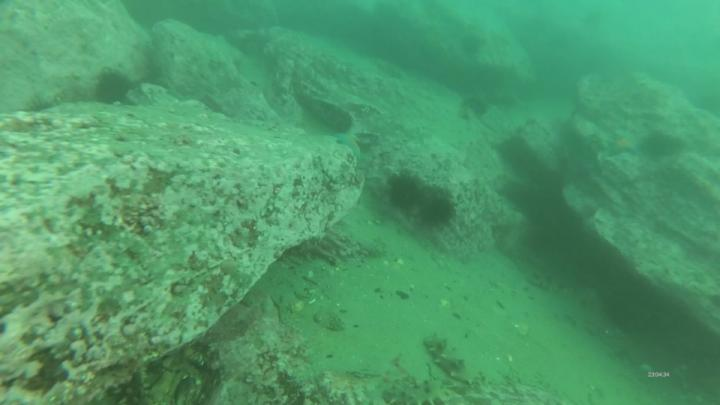echinus: (96, 72, 130, 104), (422, 191, 449, 228), (391, 176, 419, 211), (647, 133, 676, 160)
holothurian: (426, 337, 481, 385), (388, 382, 449, 405)
starfish: (333, 133, 364, 157), (610, 134, 641, 157)
